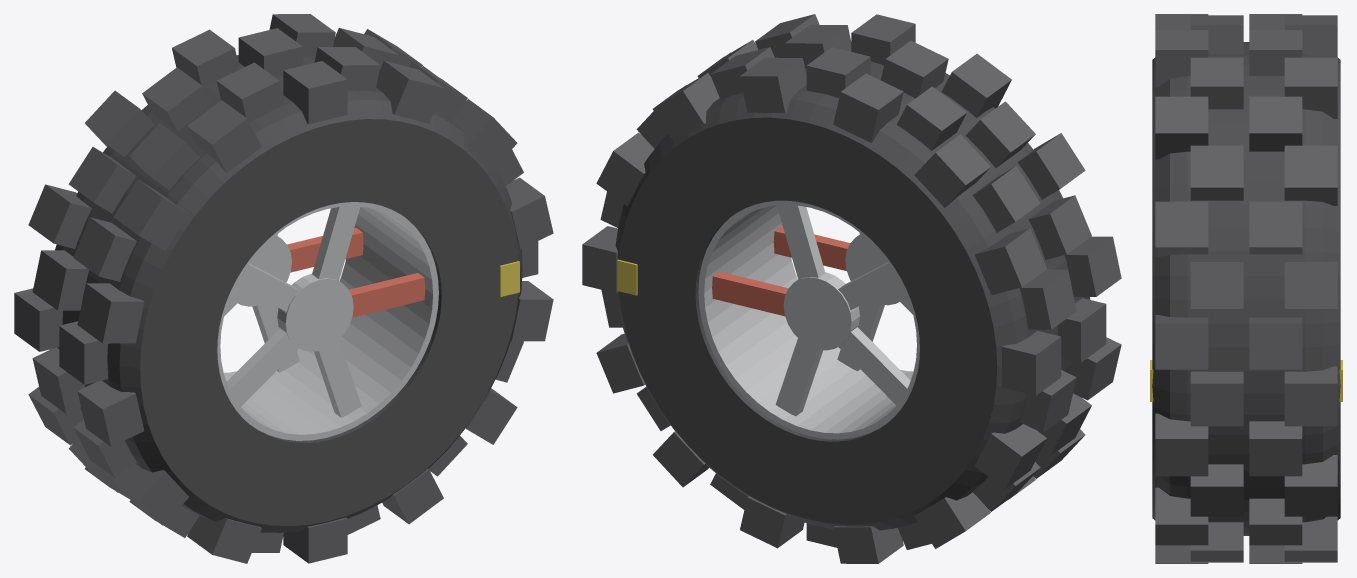
The model's file is buggy_wheel.glb.
The picture shows the model from 3 angles, left to right: view 1: azimuth 30°, elevation 25°; view 2: azimuth 150°, elevation 25°; view 3: azimuth 270°, elevation 25°; orthographic projection. The views are drawn at different scales.
Visible parts, largest first — view 1: part0, part57, part64, part28, part16, part20, part32, part24, part12, part27, part25, part19 (+35 smaller); view 2: part0, part57, part58, part17, part29, part25, part21, part13, part33, part20, part27, part19 (+34 smaller); view 3: part0, part9, part1, part56, part10, part2, part12, part8, part55, part11, part7, part4 (+19 smaller).
Boxes of the visible parts, x1,y1,x2,y2 form: part0: (50, 55, 522, 532); part57: (217, 202, 438, 440); part64: (277, 273, 353, 351); part28: (77, 283, 144, 343); part16: (283, 61, 347, 124); part20: (187, 100, 261, 172); part32: (77, 380, 144, 446); part24: (113, 179, 189, 250); part12: (376, 60, 443, 123); part27: (32, 250, 89, 310); part25: (28, 184, 91, 248); part19: (142, 67, 212, 131); part0: (615, 61, 1090, 530); part57: (698, 200, 919, 439); part58: (783, 272, 859, 350); part17: (833, 73, 903, 142); part29: (1002, 331, 1061, 395); part25: (974, 228, 1046, 295); part21: (914, 134, 990, 207); part13: (740, 57, 806, 112); part33: (974, 424, 1046, 488); part20: (941, 53, 1011, 117); part27: (1019, 269, 1076, 329); part19: (896, 86, 966, 150); part0: (1152, 42, 1340, 535); part9: (1284, 145, 1337, 205); part1: (1284, 366, 1337, 426); part56: (1155, 413, 1208, 476); part10: (1190, 145, 1243, 200); part2: (1190, 371, 1243, 426); part12: (1155, 96, 1208, 159); part8: (1155, 201, 1208, 256); part55: (1249, 421, 1302, 476); part11: (1249, 96, 1302, 151); part7: (1249, 201, 1302, 254); part4: (1155, 315, 1208, 369).
Size of the model in its own units: 0.934 by 0.934 by 0.328.
